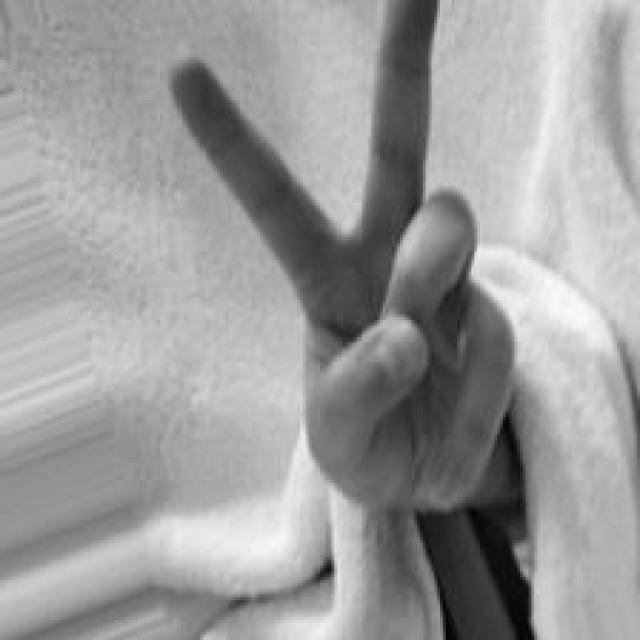V: (164, 0, 516, 513)
